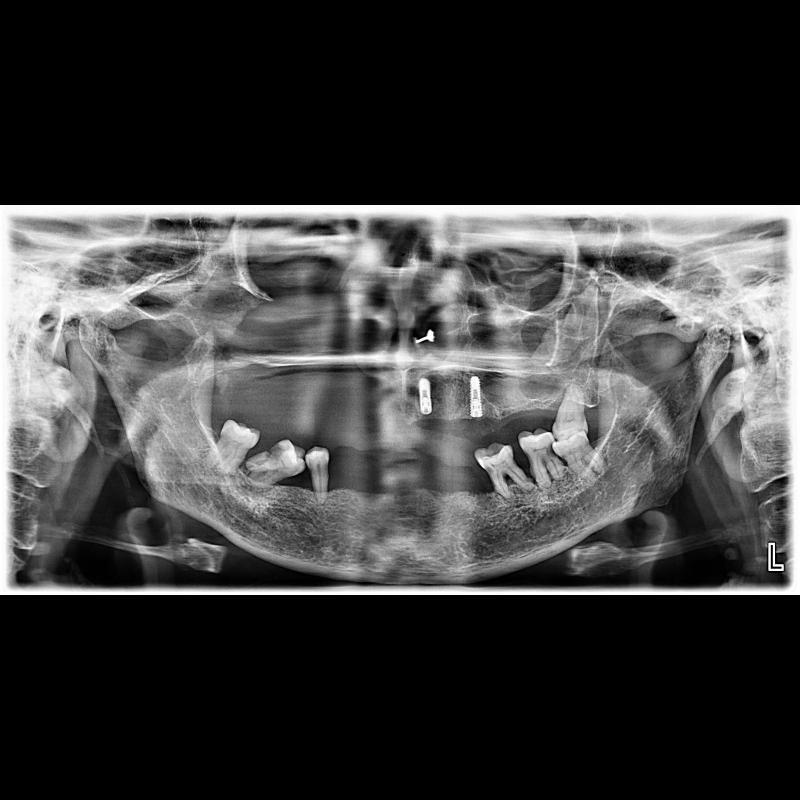osstem: (412, 374, 439, 418), (467, 376, 483, 423)
